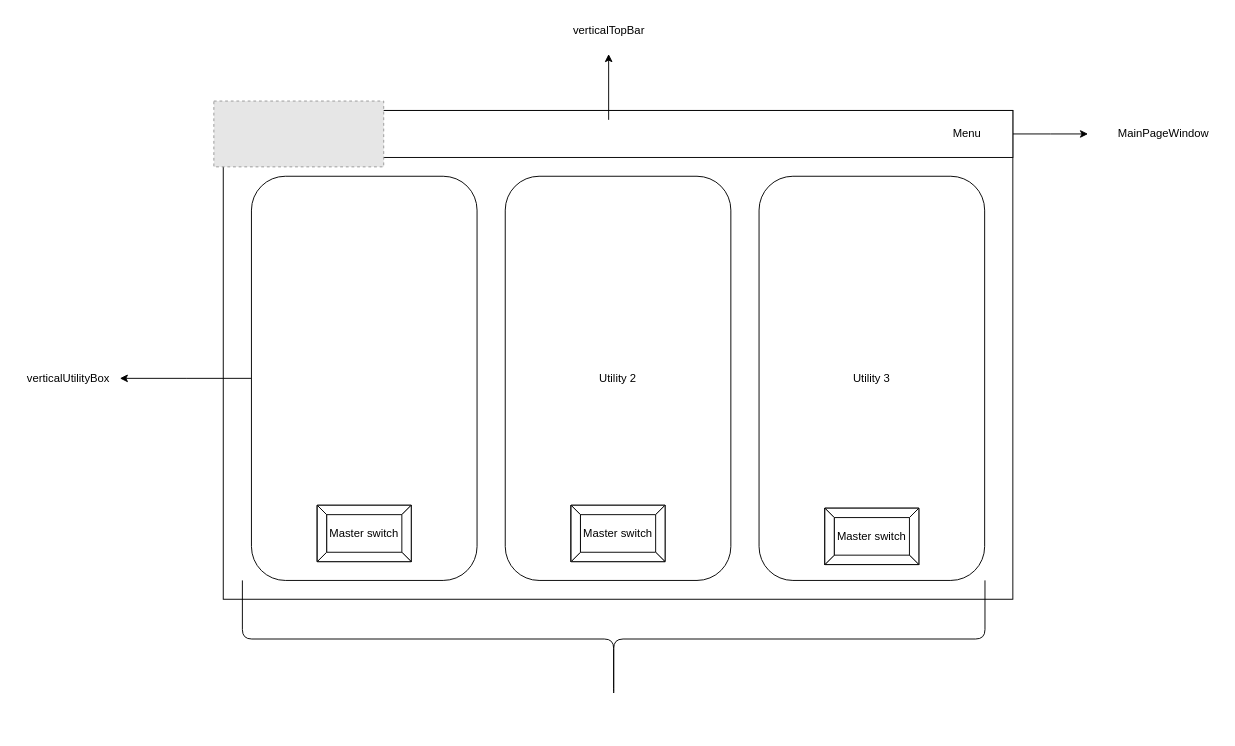
Some shapes in this 1235 by 746 pixel diagram are drawn without their labels. Grey dashed boxes stand in for pictures. Here are the shapes that lost their labels. From the top down, the box of each, then its label:
(251, 175, 477, 580): Utility 1
(241, 579, 985, 698): horizontalBannerBox
